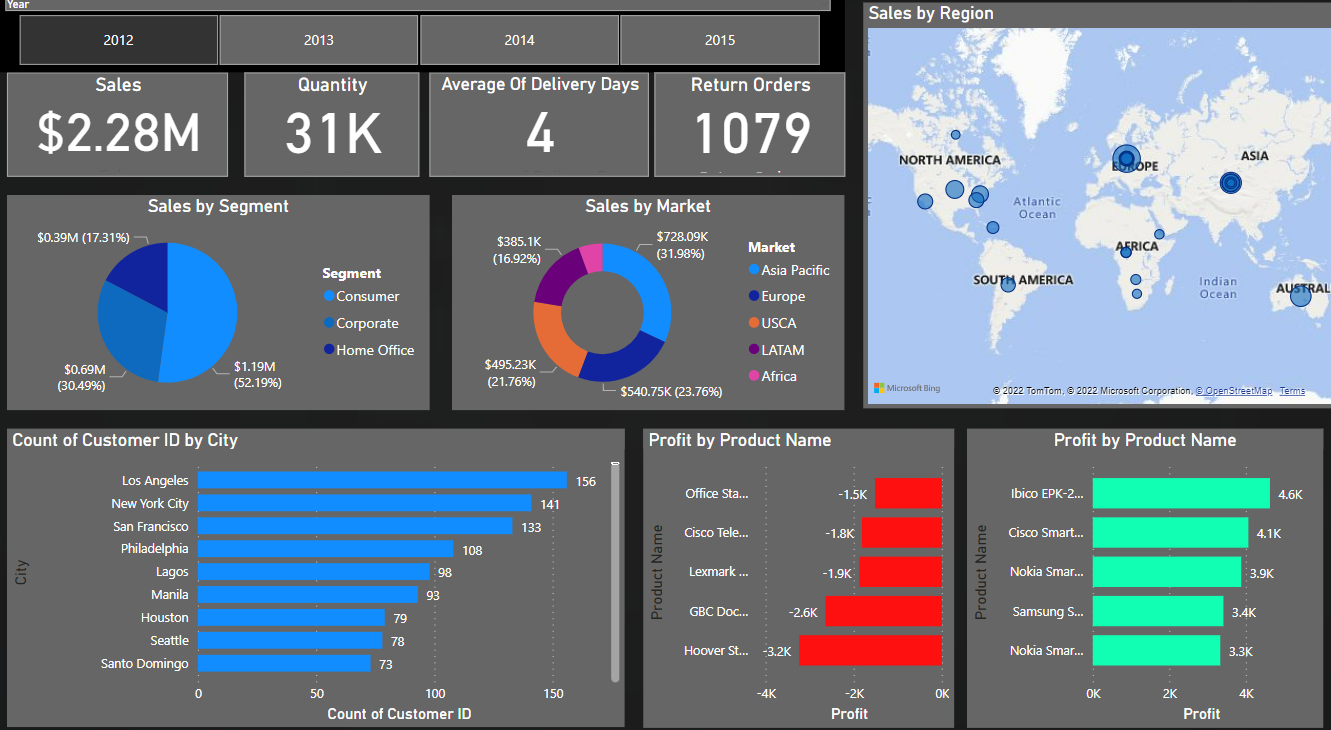

This screenshot's page, from the dashboard's own definition file:
{"tool":"powerbi","page":{"name":"Page 1","canvas":[1280,720],"ordinal":0},"visuals":[{"type":"card","title":"Sales","fields":{"Values":["Sum(Orders.Sales)"]},"box":[13.7,78.3,210.1,98.9],"z":0},{"type":"card","title":"Average Of Delivery Days","fields":{"Values":["Avg(Orders.Delivery Days)"]},"box":[416.1,78.3,208.8,98.9],"z":1000},{"type":"card","title":"Quantity","fields":{"Values":["Sum(Orders.Quantity)"]},"box":[240.3,78.3,166.2,98.9],"z":2000},{"type":"slicer","fields":{"Values":["Orders.Year"]},"box":[0,0,811.7,78.3],"z":3000},{"type":"card","title":"Return Orders","fields":{"Values":["Sum(Returns.Retturn Orders)"]},"box":[630.4,78.3,181.3,98.9],"z":4000},{"type":"map","fields":{"Category":["Orders.Region"],"Size":["Sum(Orders.Sales)"]},"box":[829.5,11.9,451,386.8],"z":5000},{"type":"clusteredBarChart","fields":{"Category":["Orders.Product Name"],"Y":["Sum(Orders.Profit)"]},"box":[928.3,417.7,339.2,284.4],"z":6000},{"type":"clusteredBarChart","fields":{"Category":["Orders.Product Name"],"Y":["Sum(Orders.Profit)"]},"box":[620,417.7,296.3,284.4],"z":7000},{"type":"pieChart","fields":{"Category":["Orders.Segment"],"Y":["Sum(Orders.Sales)"]},"box":[13.7,195,402.4,204.6],"z":8000},{"type":"donutChart","fields":{"Category":["Orders.Market","Orders.Segment"],"Y":["Sum(Orders.Sales)"]},"box":[438.1,195,373.6,204.6],"z":9000},{"type":"clusteredBarChart","fields":{"Y":["CountNonNull(Orders.Customer ID)"],"Category":["Orders.City"]},"box":[13.7,417.5,587.8,284.3],"z":10000}]}

Visuals, with their boxes in screenshot pixels (x1, y1, x2, y2), scaled from the page's 1280x720 canvas onto the 1331x730 screenshot:
"Sales" card: [x1=14, y1=79, x2=233, y2=180]
"Average Of Delivery Days" card: [x1=433, y1=79, x2=650, y2=180]
"Quantity" card: [x1=250, y1=79, x2=423, y2=180]
slicer - Orders.Year: [x1=0, y1=0, x2=844, y2=79]
"Return Orders" card: [x1=656, y1=79, x2=844, y2=180]
map - Orders.Region x Sum(Orders.Sales): [x1=863, y1=12, x2=1330, y2=404]
clusteredBarChart - Orders.Product Name x Sum(Orders.Profit): [x1=965, y1=424, x2=1318, y2=712]
clusteredBarChart - Orders.Product Name x Sum(Orders.Profit): [x1=645, y1=424, x2=953, y2=712]
pieChart - Orders.Segment x Sum(Orders.Sales): [x1=14, y1=198, x2=433, y2=405]
donutChart - Orders.Market x Orders.Segment: [x1=456, y1=198, x2=844, y2=405]
clusteredBarChart - CountNonNull(Orders.Customer ID) x Orders.City: [x1=14, y1=423, x2=625, y2=712]
